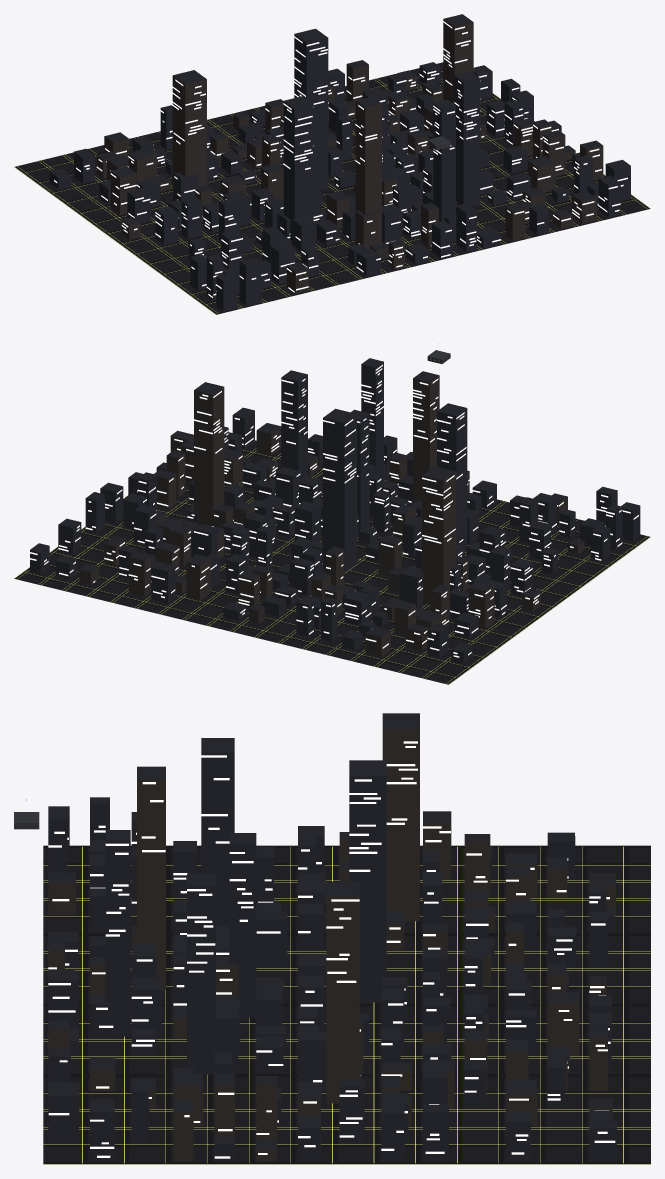
Rendered from InkboundMaps_Meeting.fbx.
3 views of the same model, one above another, from view 1: azimuth 30°, elevation 25°; view 2: azimuth 150°, elevation 25°; view 3: azimuth 270°, elevation 25° (orthographic). The views are drawn at different scales.
Parts seen in each view (by area): view 1: Map_Meeting_CityFacade_3, Map_Meeting_CityFacade_1, Map_Meeting_CityGround_1, Map_Meeting_CityFacadeWarm_3, Map_Meeting_CityFacadeWarm_1, Map_Meeting_CityRoof_1, Map_Meeting_CityRoof_3, Map_Meeting_CityRoad_2, Map_Meeting_CityFacade_4, Map_Meeting_CityFacadeWarm_4, Map_Meeting_CityRoof_4, Map_Meeting_CityFacadeWarm_2 (+9 smaller); view 2: Map_Meeting_CityGround_1, Map_Meeting_CityFacade_3, Map_Meeting_CityFacade_1, Map_Meeting_CityFacadeWarm_3, Map_Meeting_CityFacadeWarm_1, Map_Meeting_CityFacade_2, Map_Meeting_CityRoof_1, Map_Meeting_CityRoof_3, Map_Meeting_CityFacade_4, Map_Meeting_CityFacadeWarm_2, Map_Meeting_CityRoad_2, Map_Meeting_CityFacadeWarm_4 (+12 smaller); view 3: Map_Meeting_CityGround_1, Map_Meeting_CityFacade_1, Map_Meeting_CityFacade_3, Map_Meeting_CityRoad_2, Map_Meeting_CityFacadeWarm_3, Map_Meeting_CityFacadeWarm_1, Map_Meeting_CityRoof_1, Map_Meeting_CityRoof_3, Map_Meeting_CityRoad_3, Map_Meeting_CityRoad_1, Map_Meeting_CityFacade_2, Map_Meeting_CityRoof_2 (+11 smaller).
Boxes of the visible parts, x1,y1,x2,y2 form: Map_Meeting_CityFacade_3: (127, 34, 428, 311); Map_Meeting_CityFacade_1: (328, 75, 630, 258); Map_Meeting_CityGround_1: (17, 62, 647, 313); Map_Meeting_CityFacadeWarm_3: (110, 75, 404, 293); Map_Meeting_CityFacadeWarm_1: (353, 19, 603, 247); Map_Meeting_CityRoof_1: (328, 14, 630, 238); Map_Meeting_CityRoof_3: (111, 28, 428, 280); Map_Meeting_CityRoad_2: (14, 113, 635, 314); Map_Meeting_CityFacade_4: (49, 108, 283, 204); Map_Meeting_CityFacadeWarm_4: (96, 114, 261, 191); Map_Meeting_CityRoof_4: (50, 105, 283, 188); Map_Meeting_CityFacadeWarm_2: (265, 64, 443, 146); Map_Meeting_CityGround_1: (17, 440, 647, 683); Map_Meeting_CityFacade_3: (314, 408, 640, 617); Map_Meeting_CityFacade_1: (96, 362, 412, 568); Map_Meeting_CityFacadeWarm_3: (336, 375, 584, 628); Map_Meeting_CityFacadeWarm_1: (156, 387, 407, 558); Map_Meeting_CityFacade_2: (30, 498, 289, 620); Map_Meeting_CityRoof_1: (86, 358, 412, 572); Map_Meeting_CityRoof_3: (302, 371, 639, 597); Map_Meeting_CityFacade_4: (261, 553, 478, 663); Map_Meeting_CityFacadeWarm_2: (79, 525, 272, 608); Map_Meeting_CityRoad_2: (105, 450, 650, 684); Map_Meeting_CityFacadeWarm_4: (249, 552, 485, 656); Map_Meeting_CityGround_1: (43, 848, 650, 1161); Map_Meeting_CityFacade_1: (48, 840, 451, 1161); Map_Meeting_CityFacade_3: (48, 752, 446, 1002); Map_Meeting_CityRoad_2: (43, 845, 650, 1162); Map_Meeting_CityFacadeWarm_3: (48, 729, 451, 990); Map_Meeting_CityFacadeWarm_1: (48, 896, 454, 1161); Map_Meeting_CityRoof_1: (48, 830, 454, 1149); Map_Meeting_CityRoof_3: (48, 713, 451, 965); Map_Meeting_CityRoad_3: (456, 846, 628, 1162); Map_Meeting_CityRoad_1: (43, 1021, 650, 1164); Map_Meeting_CityFacade_2: (464, 990, 616, 1161); Map_Meeting_CityRoof_2: (464, 963, 616, 1128).
Size of the model in its own units: 1814 by 600 by 1530.
Materials: 32 (8 with a texture image).
